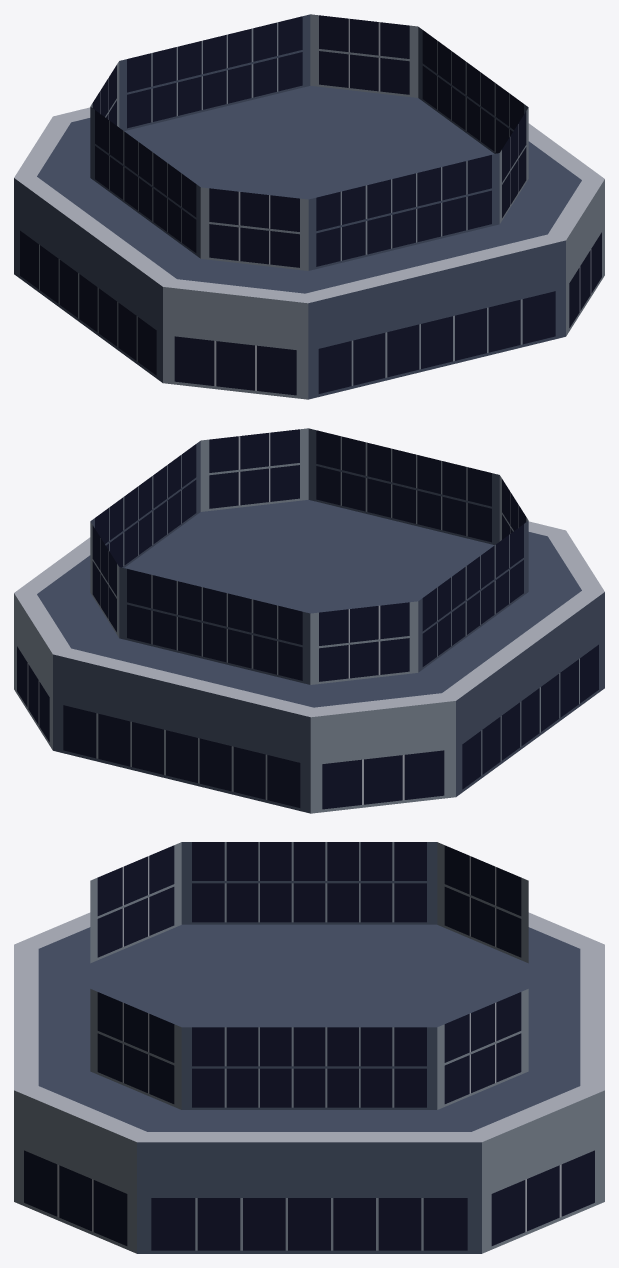
Rendered from TB_CITY_Skysc_R_Mid_Top_Blue.FBX.
The picture shows the model from 3 angles, top to bottom: view 1: azimuth 30°, elevation 25°; view 2: azimuth 150°, elevation 25°; view 3: azimuth 270°, elevation 25°; orthographic projection. The views are drawn at different scales.
Visible parts, largest first — view 1: TB_CITY_Skysc_R_Mid_Top_Blue; view 2: TB_CITY_Skysc_R_Mid_Top_Blue; view 3: TB_CITY_Skysc_R_Mid_Top_Blue.
Part boxes in pixels (bbox=[...]): TB_CITY_Skysc_R_Mid_Top_Blue: bbox=[14, 14, 604, 399]; TB_CITY_Skysc_R_Mid_Top_Blue: bbox=[14, 428, 604, 813]; TB_CITY_Skysc_R_Mid_Top_Blue: bbox=[14, 842, 604, 1253].
Size of the model in its own units: 17.93 by 6.51 by 17.93.
